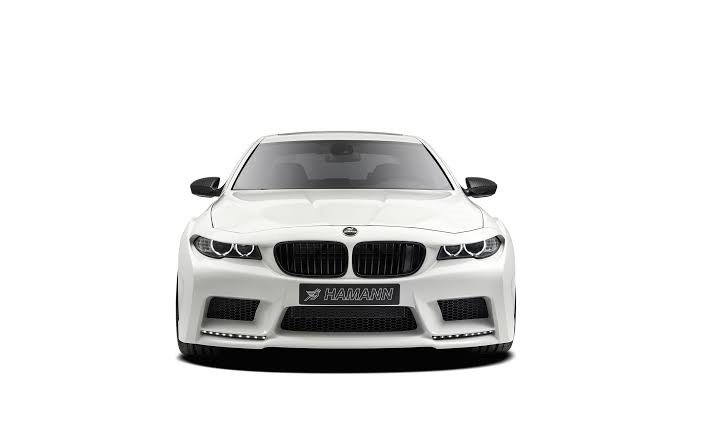bmw: (129, 116, 530, 377)
